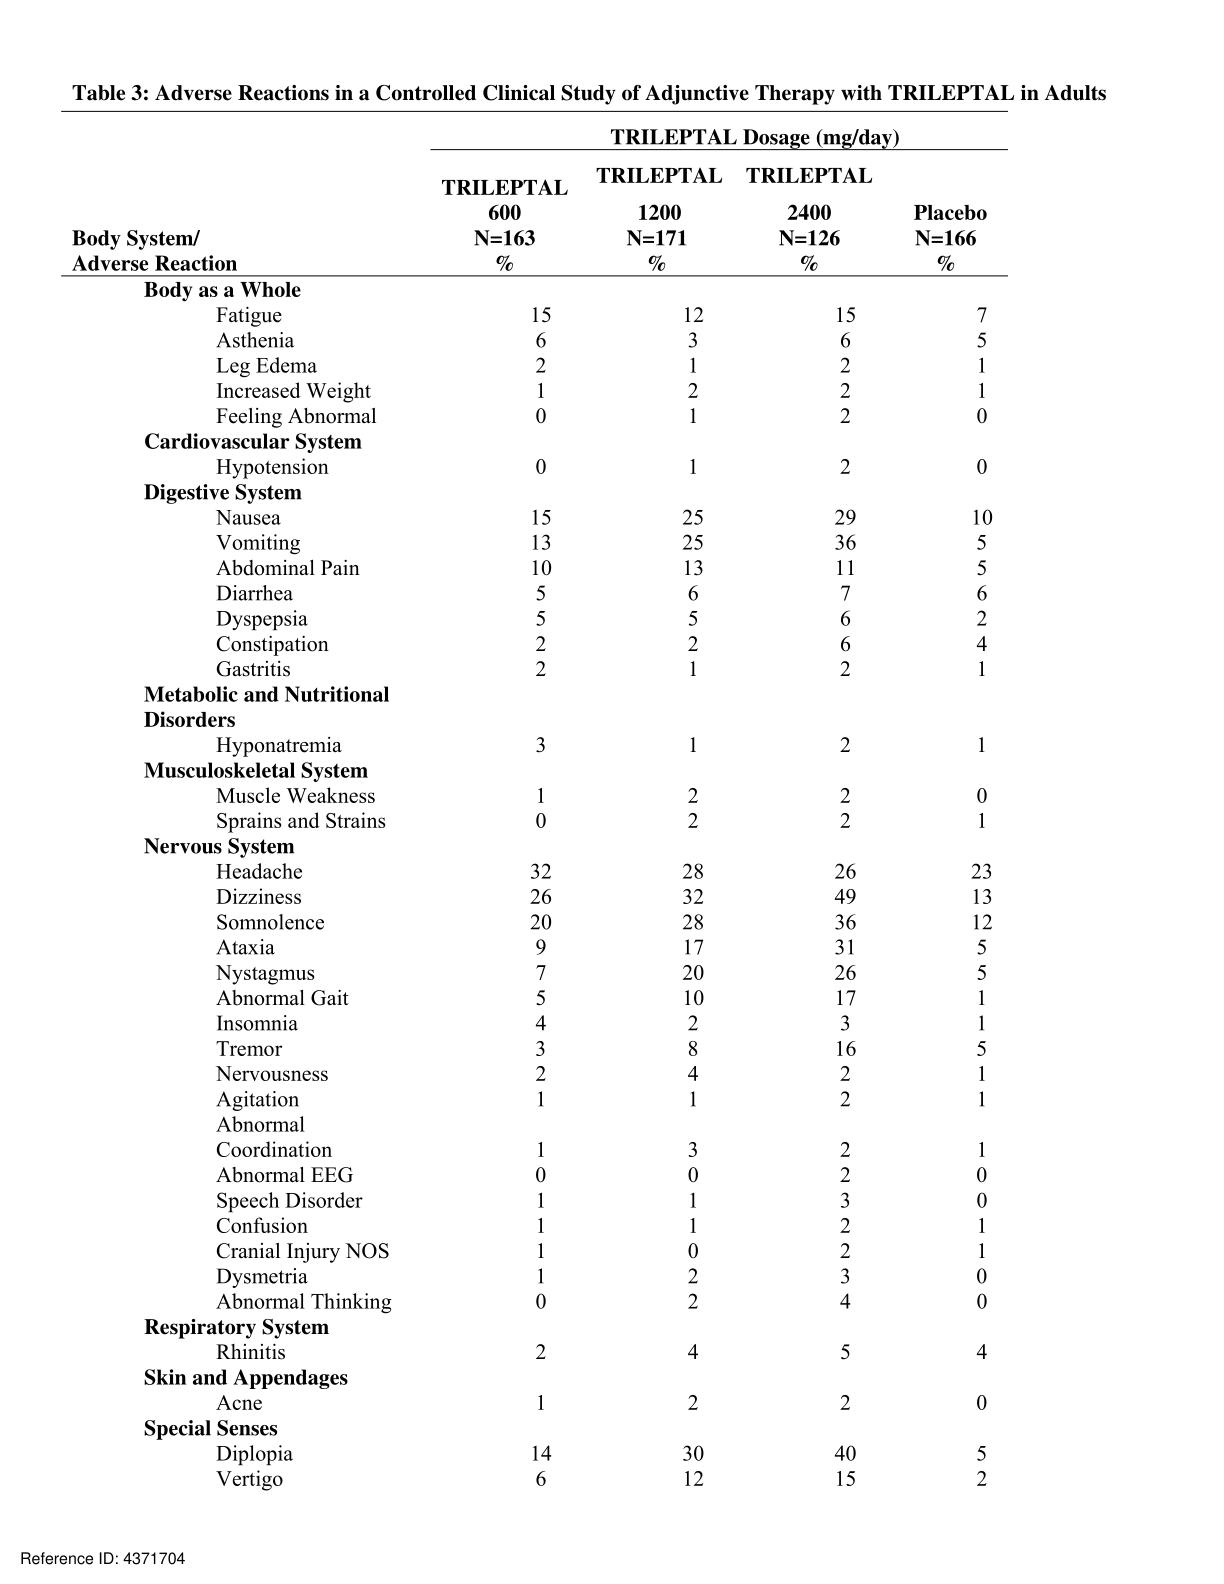partial_lined_merged_cells: (59, 109, 1009, 1491)
